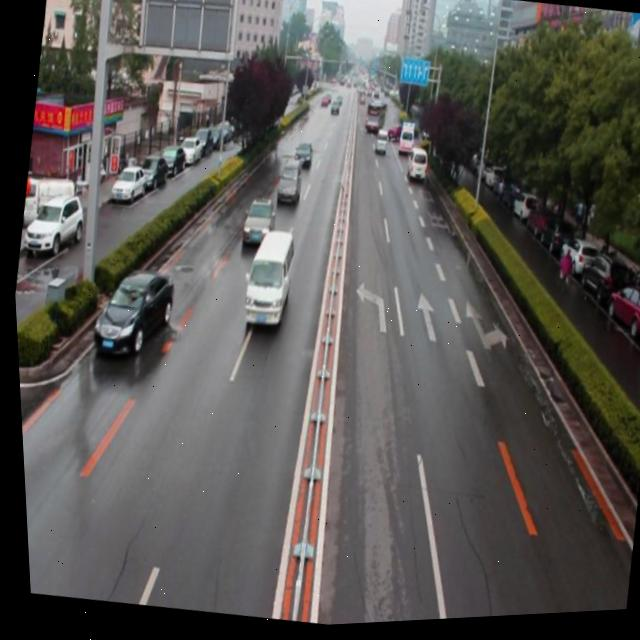car: (83, 261, 177, 369), (235, 197, 277, 252), (289, 141, 314, 172)
truck: (230, 228, 298, 336), (271, 161, 305, 210), (401, 148, 429, 189), (393, 123, 416, 161), (369, 131, 388, 161)
